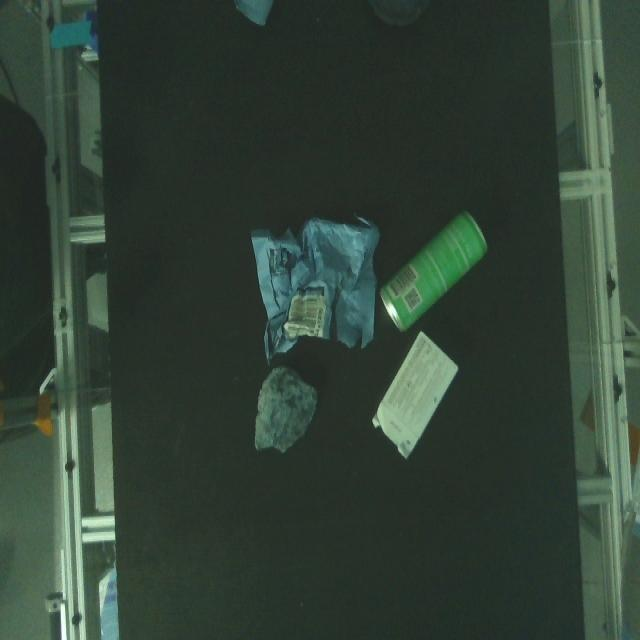non-paper: (380, 208, 490, 334), (252, 366, 321, 457)
paper: (248, 209, 382, 367), (370, 328, 461, 462)
